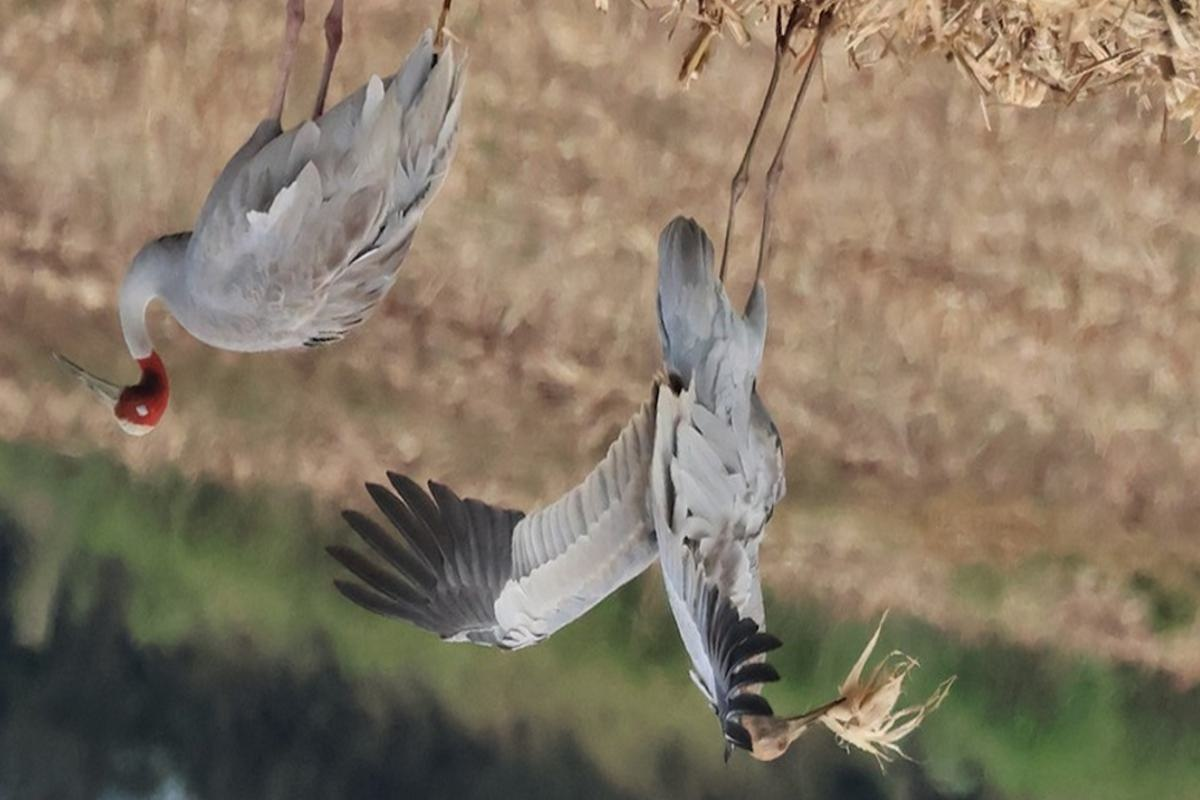crane: (370, 26, 1006, 763), (49, 1, 501, 461)
